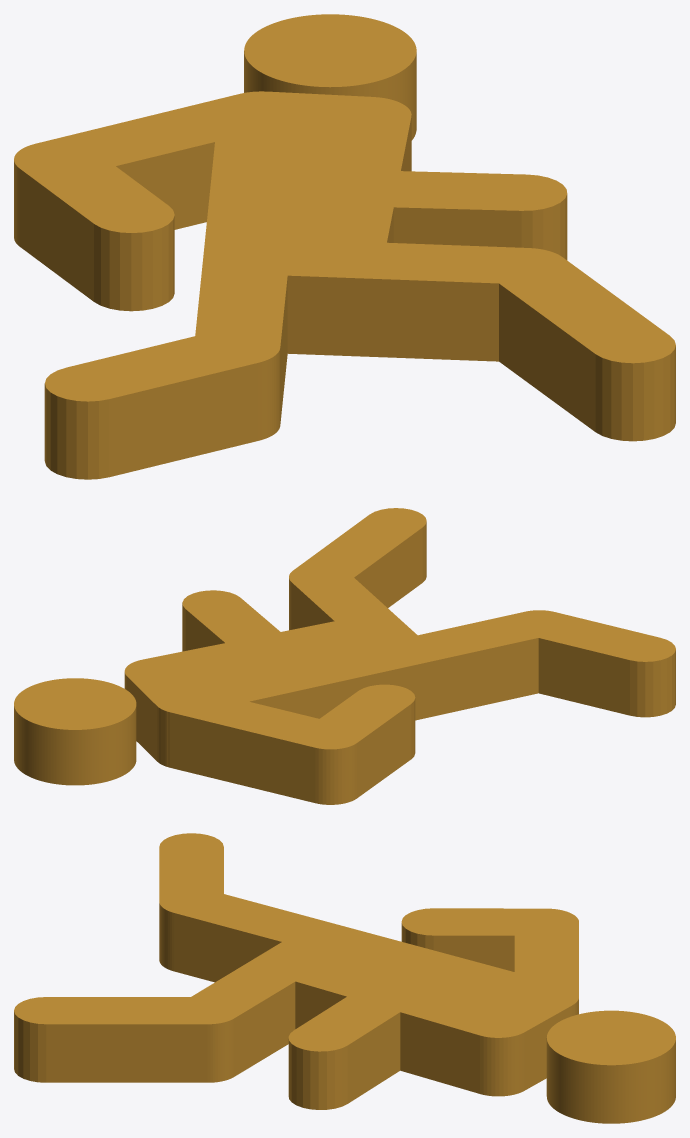
The model's file is run.glb.
3 views of the same model, one above another, from view 1: azimuth 30°, elevation 25°; view 2: azimuth 150°, elevation 25°; view 3: azimuth 270°, elevation 25° (orthographic). The views are drawn at different scales.
Parts seen in each view (by area): view 1: Path - Stroke; view 2: Path - Stroke; view 3: Path - Stroke.
Part boxes in pixels (<box>): Path - Stroke: <box>14,14,675,479</box>; Path - Stroke: <box>14,508,675,804</box>; Path - Stroke: <box>14,833,675,1123</box>.
Size of the model in its own units: 0.0201 by 0.00236 by 0.0242.
